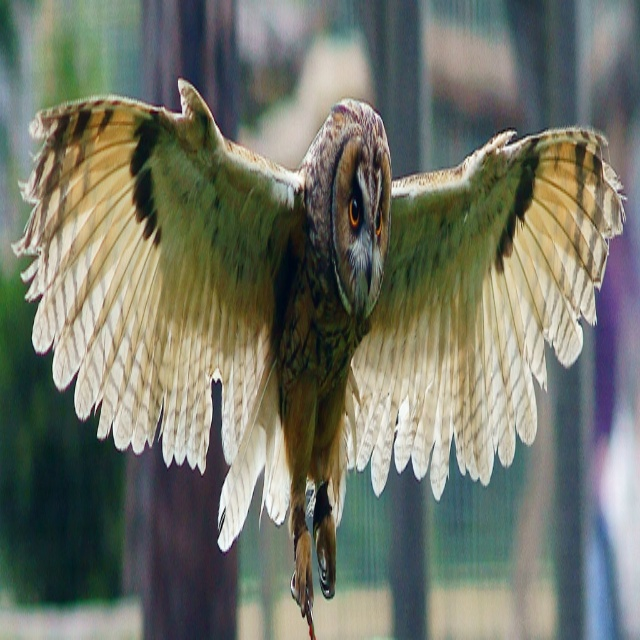Owl: (9, 75, 627, 622)
